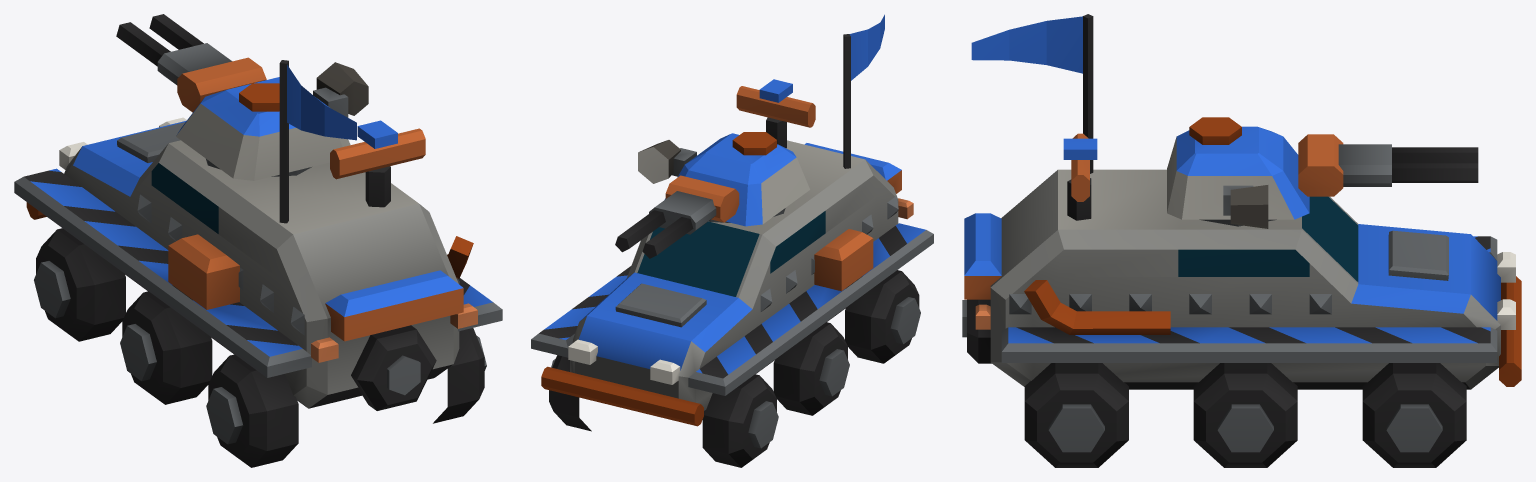
The picture shows the model from 3 angles, left to right: view 1: azimuth 30°, elevation 25°; view 2: azimuth 150°, elevation 25°; view 3: azimuth 270°, elevation 25°; orthographic projection. The views are drawn at different scales.
Visible parts, largest first — view 1: body, turret, spinAxleR, spinAxleM, spinAxleF, barrel, spinRadar, swayFlag; view 2: body, turret, spinAxleF, spinAxleM, spinAxleR, barrel, spinRadar, swayFlag; view 3: body, turret, spinAxleR, spinAxleM, spinAxleF, barrel, swayFlag, spinRadar.
Boxes of the visible parts, left/top/right/bottom form: body: left=14, top=60, right=502, bottom=410; turret: left=176, top=62, right=368, bottom=180; spinAxleR: left=206, top=328, right=486, bottom=467; spinAxleM: left=120, top=291, right=212, bottom=404; spinAxleF: left=34, top=228, right=125, bottom=341; barrel: left=116, top=14, right=266, bottom=112; spinRadar: left=330, top=120, right=425, bottom=179; swayFlag: left=287, top=64, right=356, bottom=140; body: left=531, top=34, right=933, bottom=426; turret: left=638, top=132, right=809, bottom=226; spinAxleF: left=549, top=355, right=778, bottom=467; spinAxleM: left=773, top=322, right=849, bottom=415; spinAxleR: left=845, top=270, right=920, bottom=363; barrel: left=615, top=175, right=739, bottom=258; spinRadar: left=736, top=79, right=815, bottom=127; swayFlag: left=849, top=14, right=884, bottom=80; body: left=962, top=14, right=1521, bottom=389; turret: left=1167, top=117, right=1309, bottom=228; spinAxleR: left=1024, top=363, right=1128, bottom=467; spinAxleM: left=1193, top=363, right=1297, bottom=467; spinAxleF: left=1362, top=363, right=1466, bottom=467; barrel: left=1298, top=134, right=1478, bottom=196; swayFlag: left=971, top=16, right=1082, bottom=73; spinRadar: left=1063, top=133, right=1097, bottom=201.
Size of the model in its own units: 0.76 by 1.1 by 1.49.
